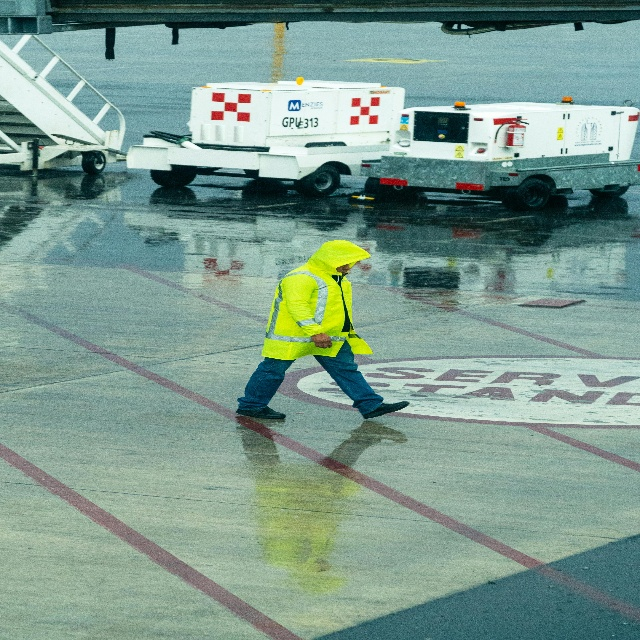Sin_guantes: (311, 333, 332, 349)
